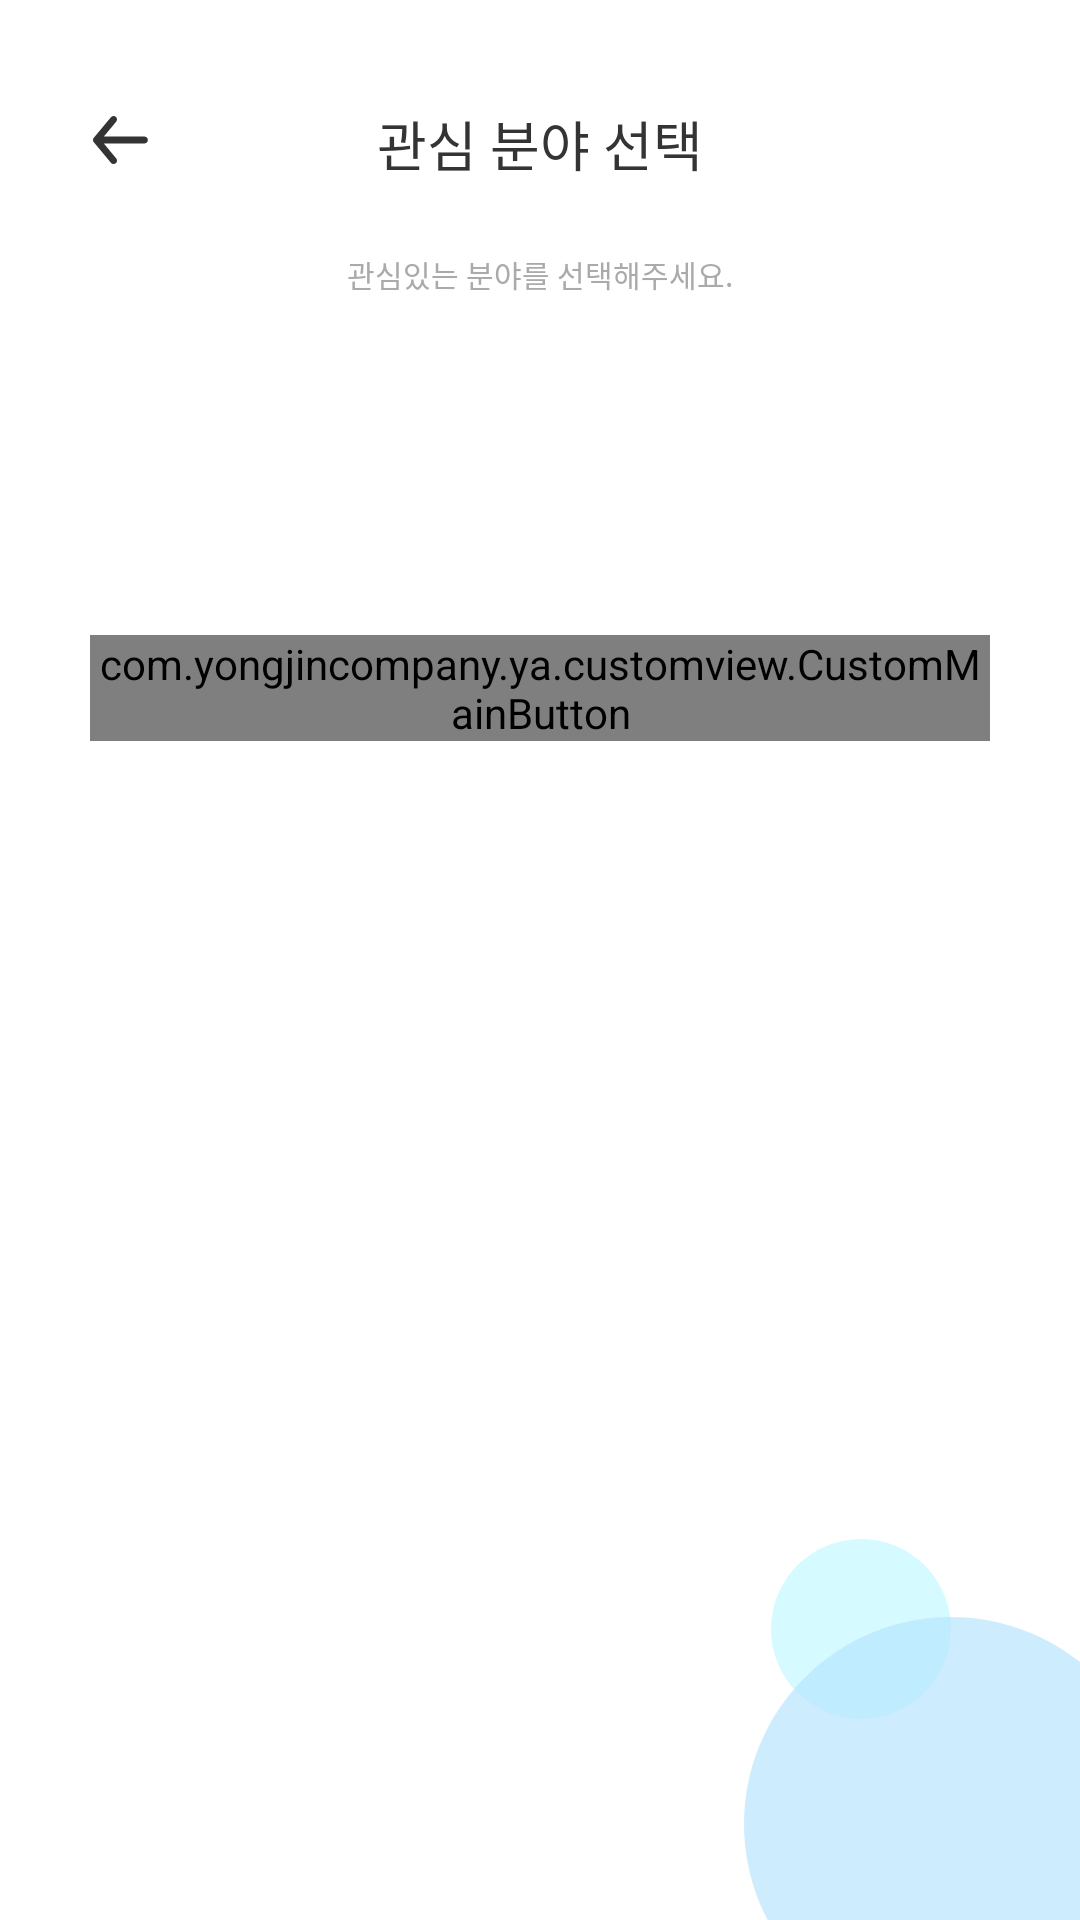

Point at icon controls on the screen. Image size 1080w x 1920h, points as point (x, y).
back: point (120, 140)
